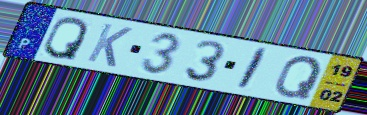3: (140, 32, 184, 77), (183, 40, 228, 83)
I: (233, 46, 272, 92)
K: (84, 21, 136, 69)
Q: (273, 55, 326, 100), (41, 16, 91, 62)
